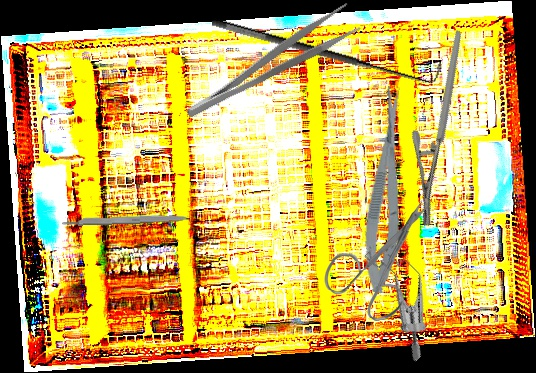Dressing Forceps: (176, 1, 363, 123)
Hook Surgical: (210, 0, 444, 93)
Iris Scissors: (321, 198, 435, 323)
Micro Scissor: (358, 84, 415, 295)
Needle Holder: (365, 28, 521, 231)
Scalpel Handle: (61, 212, 191, 227)
Speculum: (333, 232, 464, 363)
